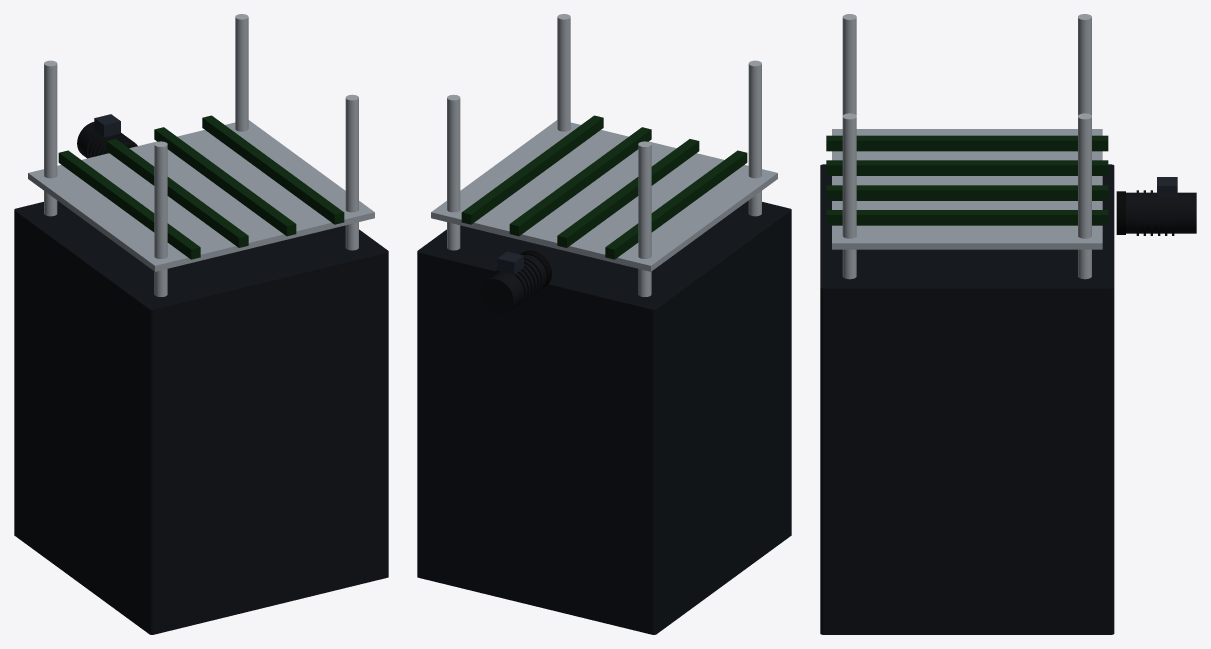
Rendered from lift_transfer.glb.
3 renders of one model, left to right at view 1: azimuth 30°, elevation 25°; view 2: azimuth 150°, elevation 25°; view 3: azimuth 270°, elevation 25°, orthographic. The views are drawn at different scales.
Parts seen in each view (by area): view 1: lift, crossbelt, cross_motor; view 2: lift, crossbelt, cross_motor; view 3: lift, crossbelt, cross_motor.
Part boxes in pixels (box(x1,y1,x2,y2)): lift: box(14, 14, 388, 634); crossbelt: box(28, 115, 374, 271); cross_motor: box(77, 114, 137, 158); lift: box(417, 14, 791, 634); crossbelt: box(431, 115, 777, 271); cross_motor: box(480, 250, 551, 314); lift: box(820, 14, 1114, 634); crossbelt: box(826, 129, 1108, 249); cross_motor: box(1116, 177, 1196, 235).
Bounding box in the file's own units: 0.5 × 0.95 × 0.64.
